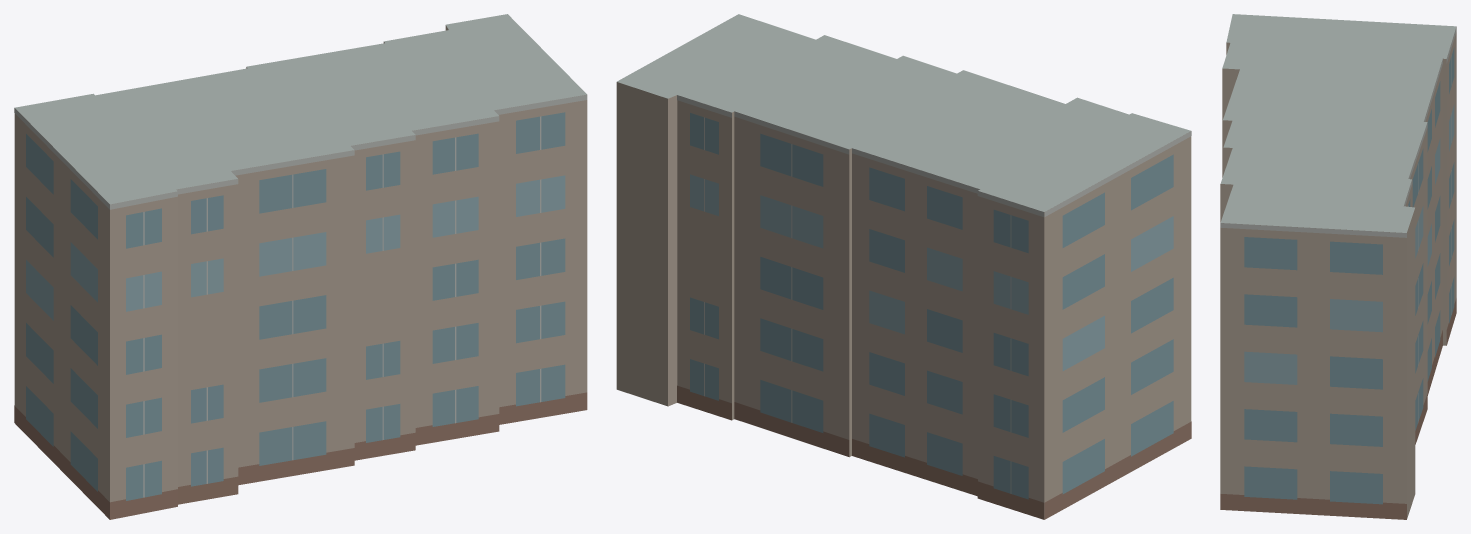
Rendered from survey-upis-32665579.glb.
3 views of the same model, side by side, from view 1: azimuth 30°, elevation 25°; view 2: azimuth 150°, elevation 25°; view 3: azimuth 270°, elevation 25° (orthographic). The views are drawn at different scales.
Visible parts, largest first — view 1: survey-upis-32665579.tmp; view 2: survey-upis-32665579.tmp; view 3: survey-upis-32665579.tmp.
Boxes of the visible parts, x1,y1,x2,y2 form: survey-upis-32665579.tmp: (14,14,587,519); survey-upis-32665579.tmp: (616,14,1191,519); survey-upis-32665579.tmp: (1220,14,1456,519).
Size of the model in its own units: 23.59 by 14.4 by 10.75.
